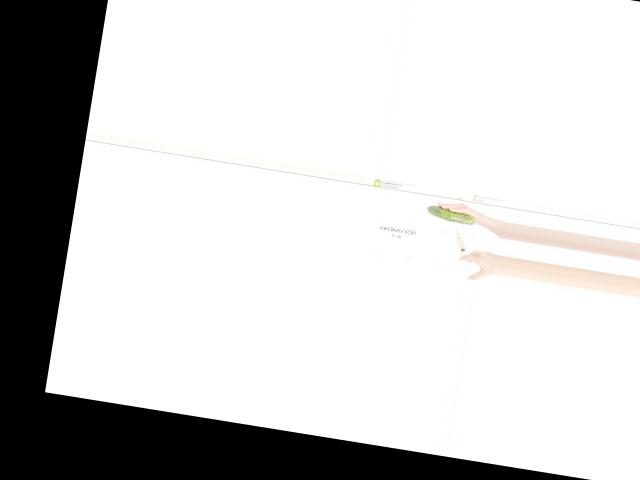cucumber: (426, 204, 476, 224)
